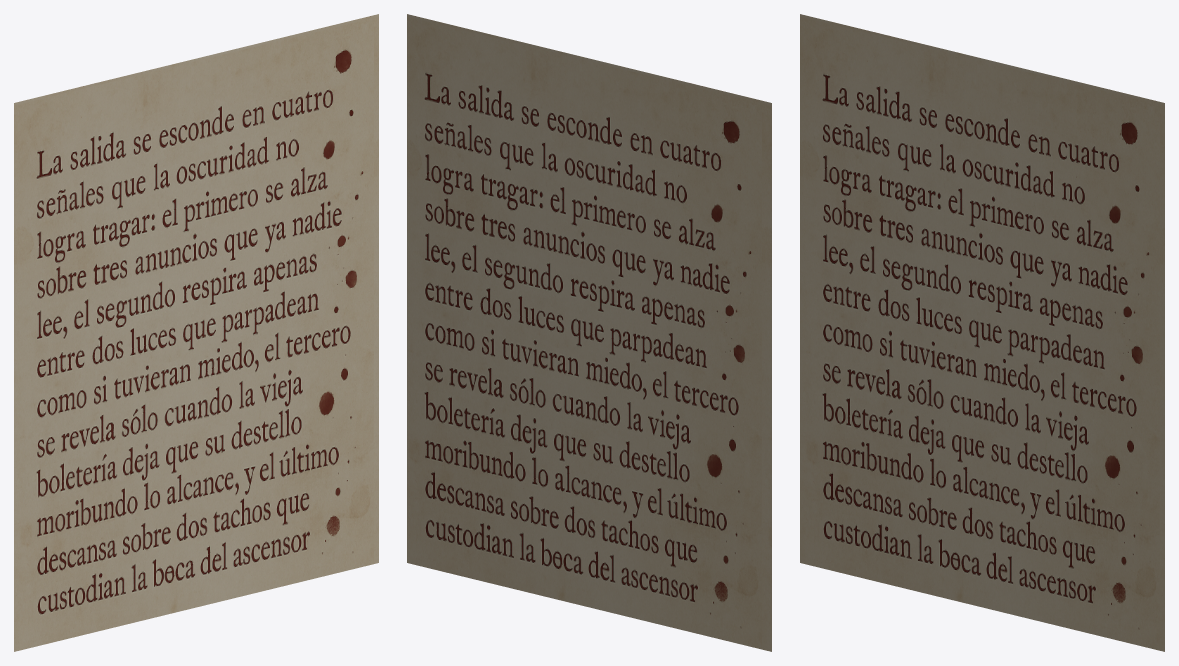
Rendered from Paper_A.fbx.
The picture shows the model from 3 angles, left to right: view 1: azimuth 30°, elevation 25°; view 2: azimuth 150°, elevation 25°; view 3: azimuth 330°, elevation 25°; orthographic projection.
Visible parts, largest first — view 1: Paper_A; view 2: Paper_A; view 3: Paper_A.
Boxes of the visible parts, x1=… form: Paper_A: x1=14, y1=14, x2=378, y2=651; Paper_A: x1=407, y1=14, x2=771, y2=651; Paper_A: x1=800, y1=14, x2=1164, y2=651.
Bounding box in the file's own units: 20.4 × 29.32 × 0.00495.
